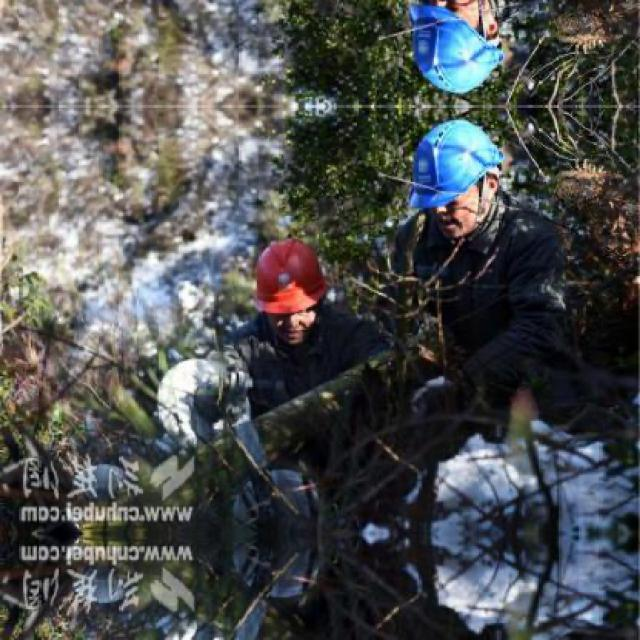con casco: (386, 110, 542, 260), (250, 230, 342, 368)
